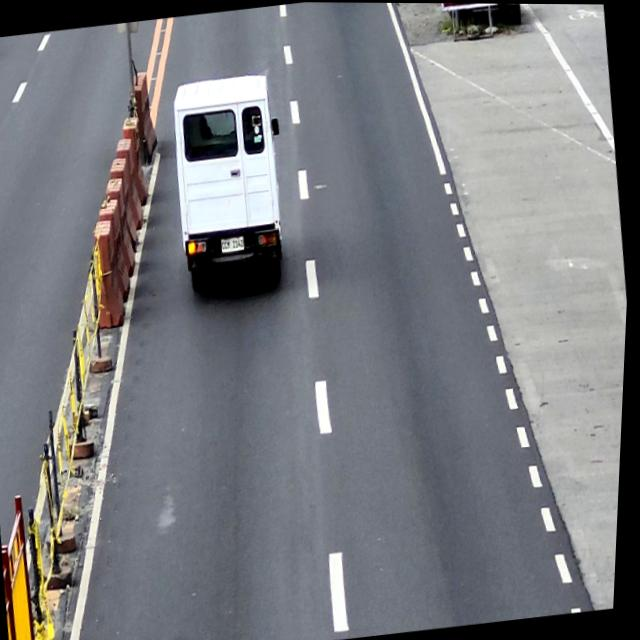Car: (164, 71, 300, 292)
License-Plate: (221, 235, 248, 253)
